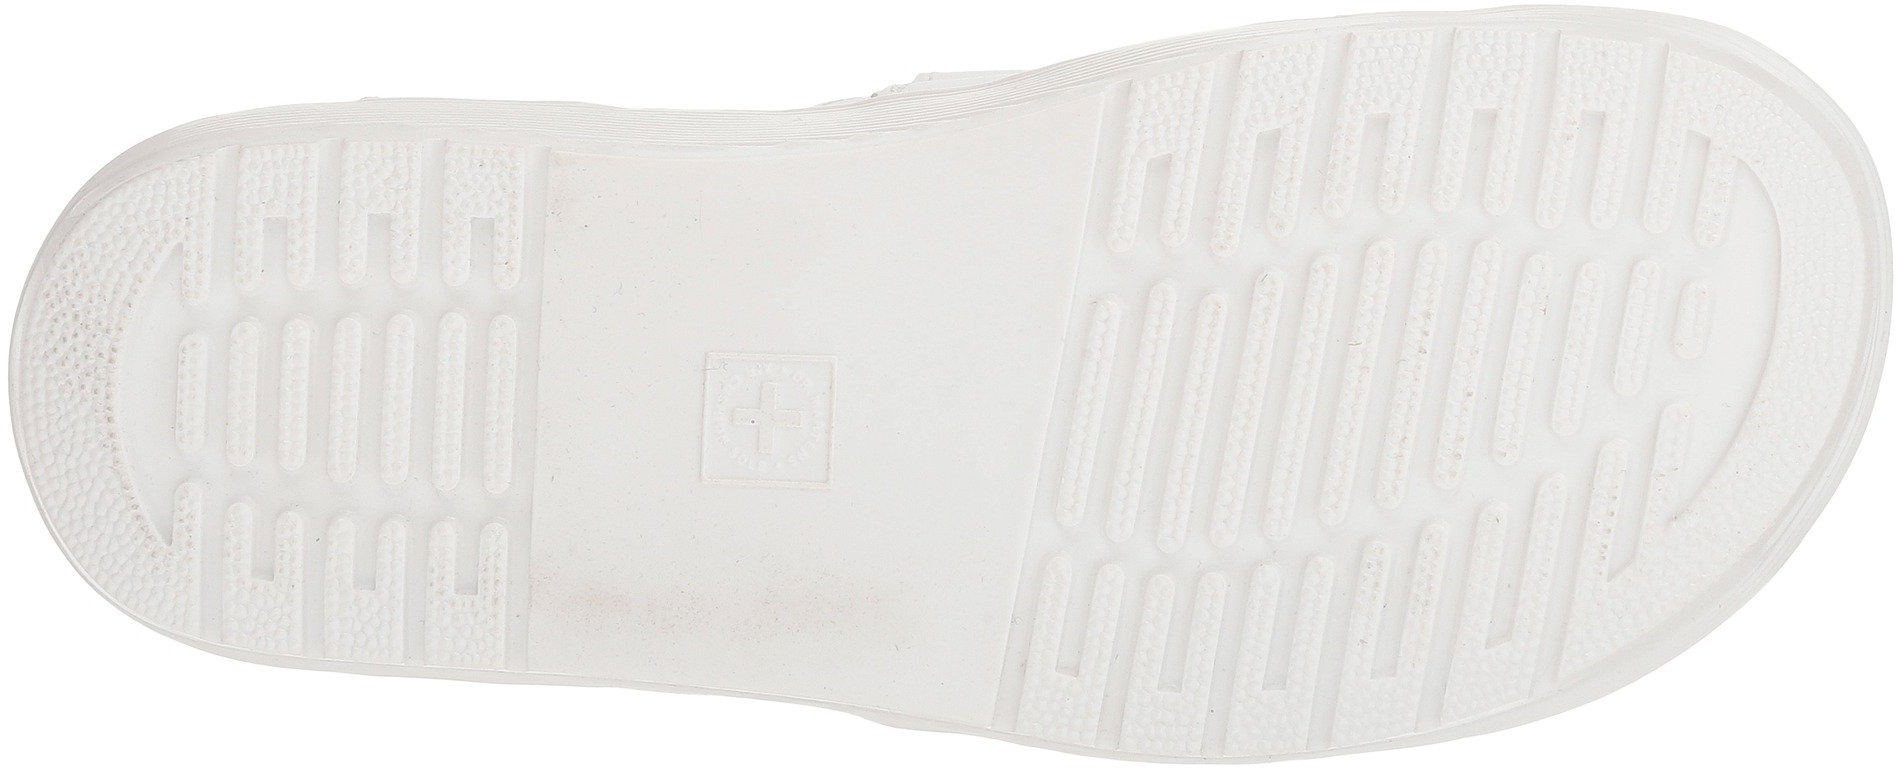circle: (710, 362, 825, 474)
exclude: (1657, 0, 1895, 110)
line: (183, 308, 531, 506)
quad: (1103, 16, 1750, 256), (169, 472, 524, 679), (183, 135, 543, 314), (696, 346, 842, 493)
ribbon: (11, 157, 183, 614)
